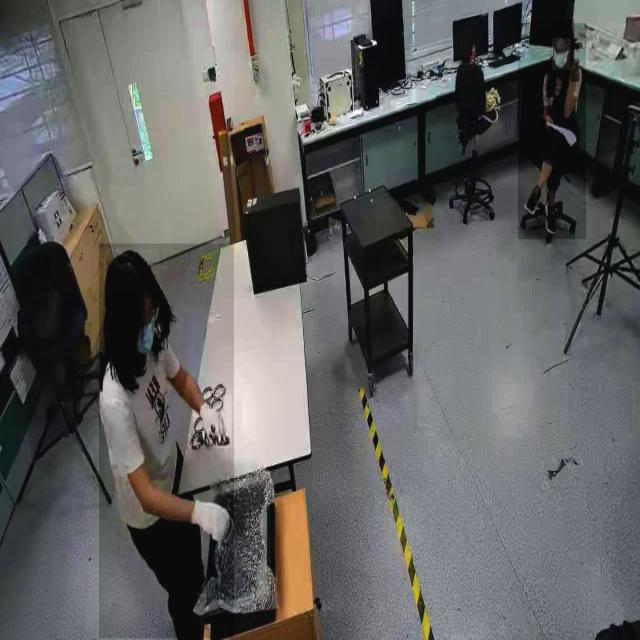face_mask: (132, 298, 164, 360), (552, 38, 570, 70)
hand_glove: (189, 484, 232, 562), (194, 395, 232, 448)
hand_noglove: (570, 58, 580, 82), (544, 113, 554, 130)
head_nohelmet: (103, 249, 159, 293), (552, 20, 574, 38)
person: (98, 244, 234, 639), (518, 23, 586, 240)
shoes: (521, 179, 544, 218), (542, 196, 558, 240)
